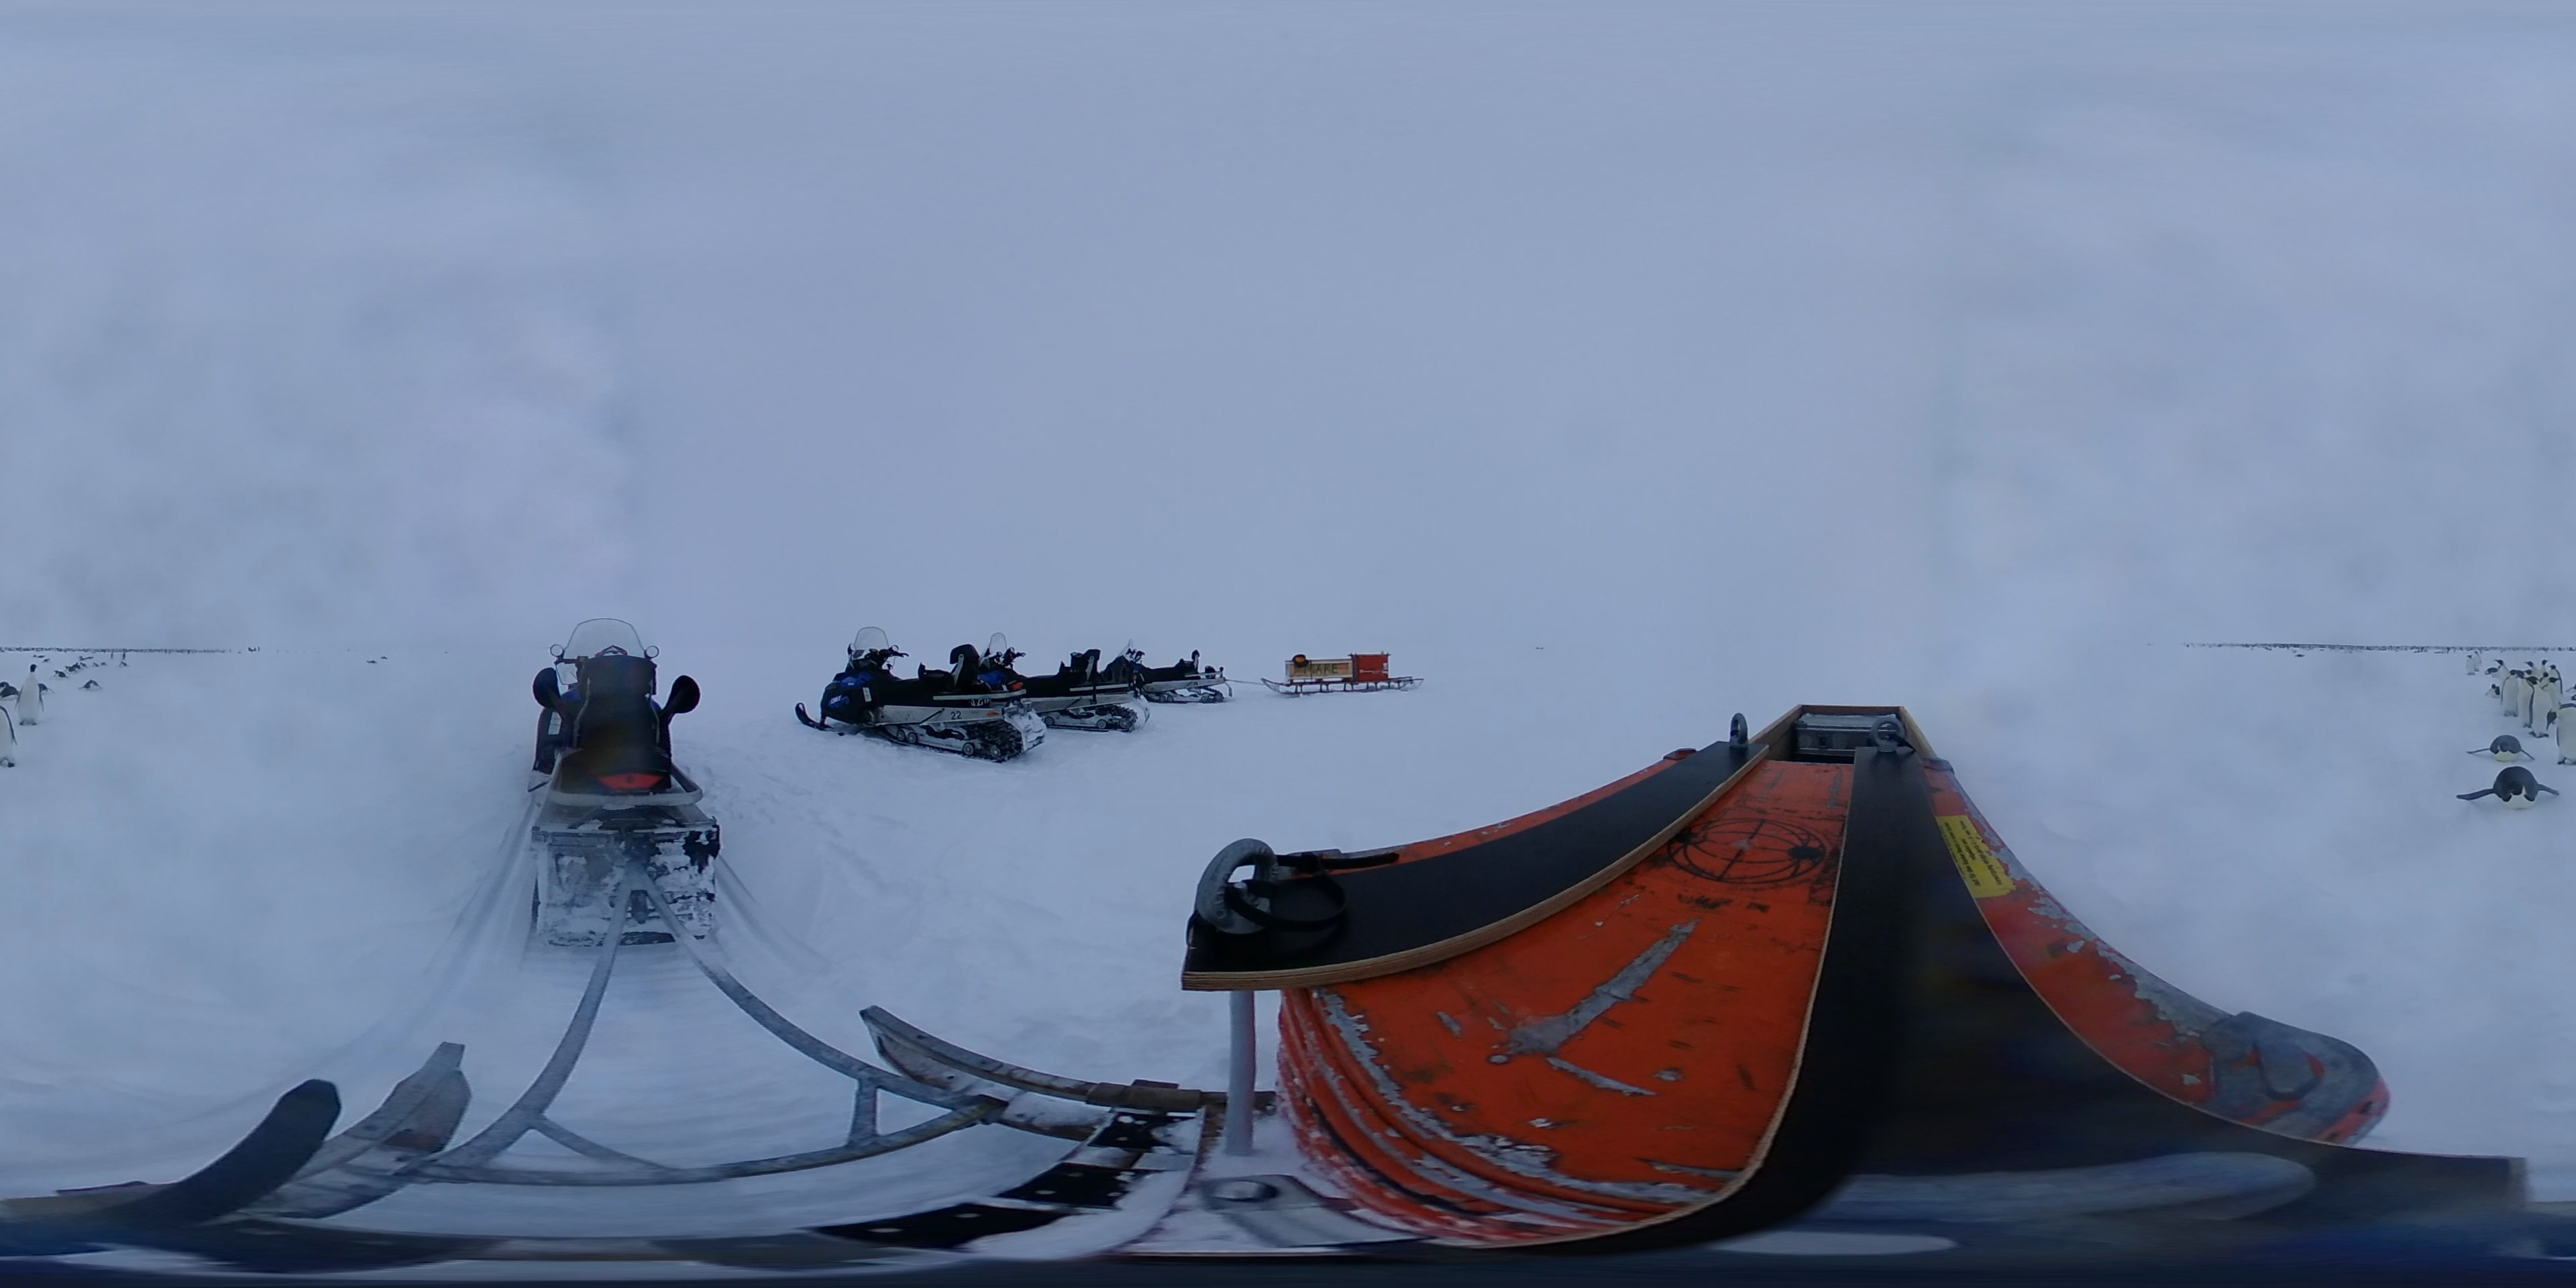adult_standing_penguin: (2522, 674, 2555, 739), (2546, 703, 2576, 766), (0, 703, 21, 774), (21, 660, 44, 724), (2497, 670, 2522, 716)
adult_toboggan_penguin: (2458, 766, 2558, 812), (2463, 731, 2538, 762), (76, 678, 107, 695), (2484, 683, 2502, 698)
